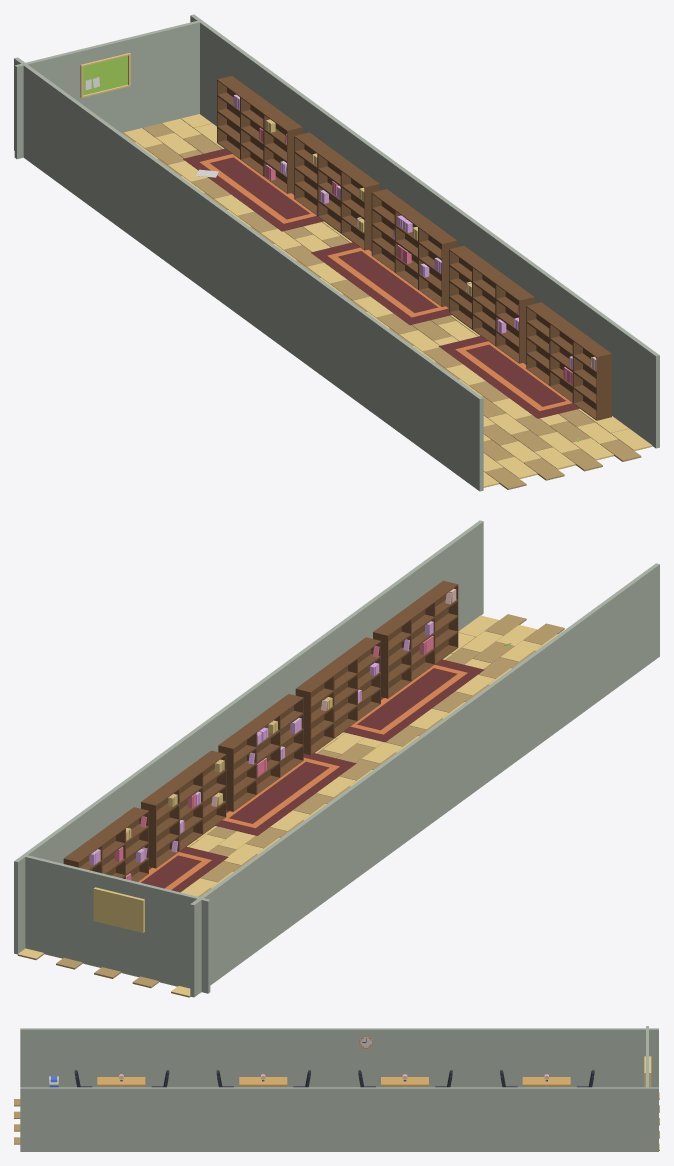
File: Stage5.fbx
3 views of the same model, one above another, from view 1: azimuth 30°, elevation 25°; view 2: azimuth 150°, elevation 25°; view 3: azimuth 270°, elevation 25° (orthographic). The views are drawn at different scales.
Parts seen in each view (by area): view 1: Cube.016, Cube.001, Cube, Plane.003, Cube.017, Cube.010, Cube.041; view 2: Cube.016, Cube.001, Cube.017, Cube, Plane.003, Cube.041, Cube.010; view 3: Cube.016, Cube.007, Cube.
Part boxes in pixels (x1,y1,x2,y2): Cube.016: (14, 14, 659, 491); Cube.001: (217, 76, 611, 420); Cube: (123, 114, 652, 489); Plane.003: (183, 148, 579, 418); Cube.017: (14, 20, 202, 159); Cube.010: (122, 132, 575, 469); Cube.041: (80, 53, 130, 98); Cube.016: (14, 520, 659, 997); Cube.001: (63, 580, 458, 881); Cube.017: (22, 854, 210, 993); Cube: (17, 614, 564, 997); Plane.003: (138, 659, 484, 892); Cube.041: (93, 887, 144, 932); Cube.010: (94, 634, 558, 978); Cube.016: (20, 1028, 658, 1151); Cube.007: (74, 1070, 594, 1087); Cube: (14, 1092, 659, 1150).
Bounding box in the file's own units: 1611 × 767 × 7037.
